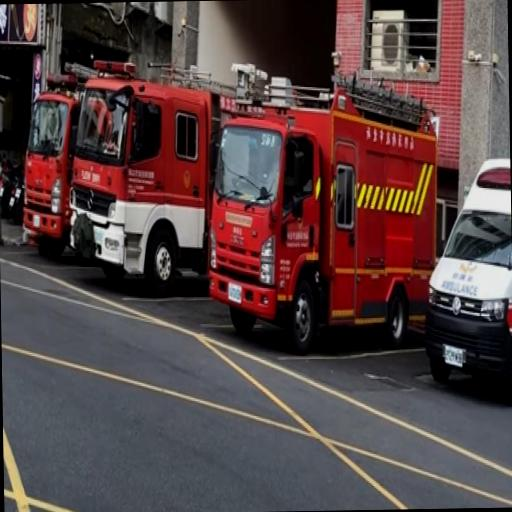fire truck: (210, 72, 436, 353), (70, 62, 217, 296)
